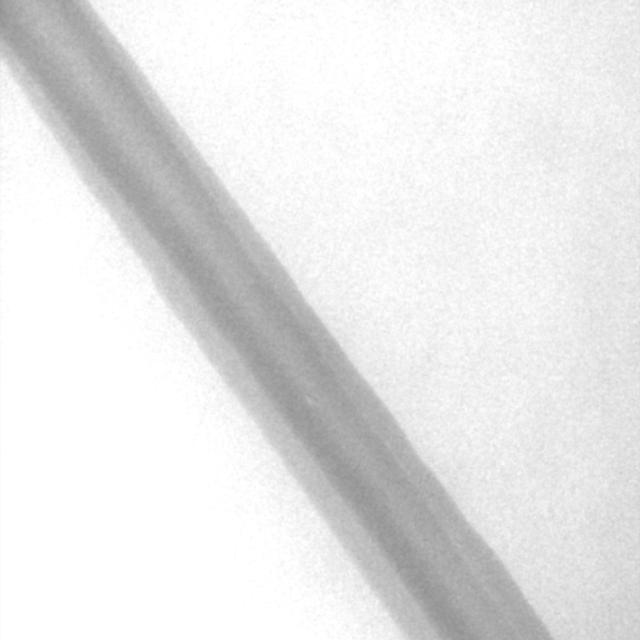air-hole: (306, 398, 316, 412)
